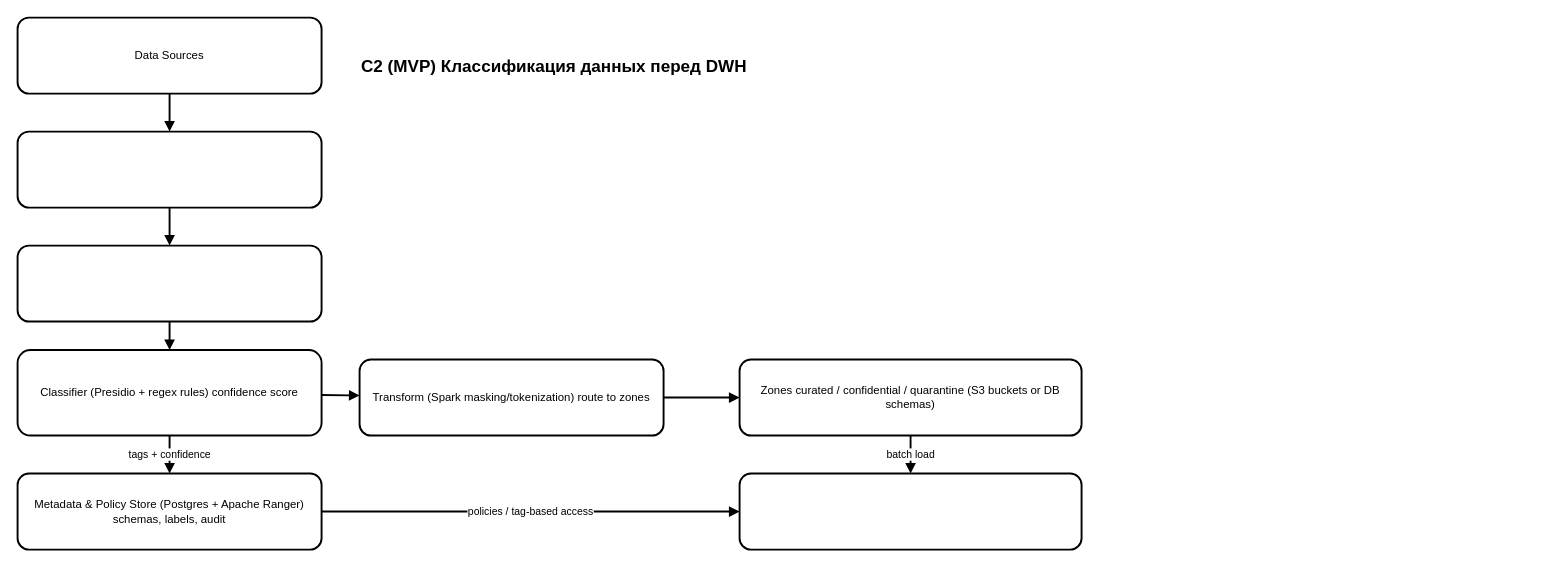
Some shapes in this 1553 by 566 pixel diagram are drawn without their labels. Each missing label, with the centre of its shape:
"Analytics DWH (ClickHouse)" belongs at [910,511].
"Raw Storage (S3/MinIO landing) Parquet/JSON" belongs at [169,169].
"Schema Detect (Spark inference) + Schema Registry (Postgres)" belongs at [169,283].
